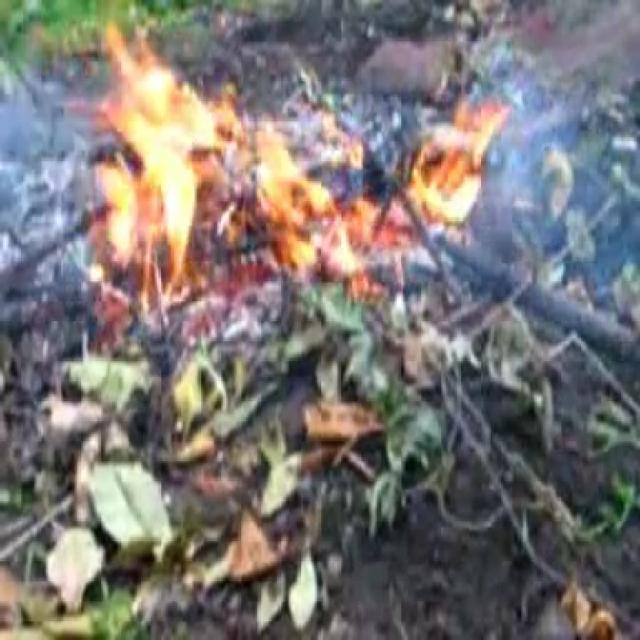Fire: (181, 109, 507, 276), (107, 9, 234, 293)
